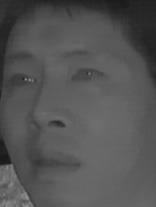eye: (69, 64, 105, 88), (8, 70, 37, 93)
mouth: (25, 143, 84, 181)
